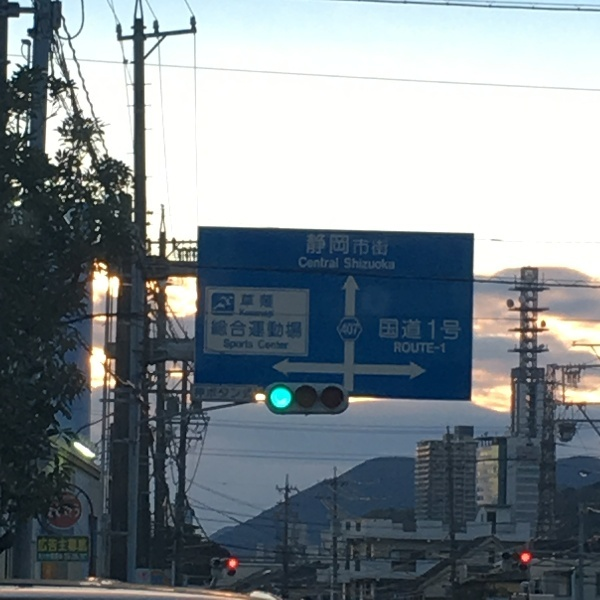text: (385, 318, 400, 341), (401, 318, 416, 341), (417, 318, 432, 341), (433, 318, 448, 341), (321, 234, 336, 256), (337, 234, 352, 256), (353, 234, 368, 256), (369, 234, 384, 256), (449, 318, 462, 341), (307, 234, 320, 256), (225, 320, 240, 339), (241, 320, 256, 339), (257, 320, 272, 339), (273, 320, 288, 339), (49, 504, 64, 521), (65, 504, 80, 521), (289, 320, 302, 339), (241, 294, 256, 310), (257, 294, 272, 310), (212, 320, 224, 339), (305, 256, 320, 270), (321, 256, 336, 270), (353, 257, 368, 271), (369, 257, 384, 271), (209, 387, 224, 401), (225, 387, 240, 401), (49, 539, 64, 553), (65, 539, 80, 553), (195, 387, 208, 401), (401, 342, 416, 354), (417, 342, 432, 354), (241, 387, 253, 401), (241, 308, 256, 319), (257, 308, 272, 319), (433, 342, 446, 354), (225, 339, 240, 349), (273, 340, 288, 350), (258, 340, 272, 350), (385, 257, 395, 271), (38, 539, 48, 553), (241, 339, 253, 349), (49, 553, 64, 561), (65, 553, 80, 561), (342, 324, 352, 335), (345, 257, 352, 271), (81, 539, 88, 553), (380, 318, 384, 341), (39, 553, 48, 561), (299, 256, 304, 270), (385, 234, 388, 256), (353, 324, 359, 335), (395, 342, 400, 354), (81, 553, 87, 561), (337, 256, 340, 270), (273, 294, 274, 310), (273, 308, 274, 319), (289, 340, 290, 350)
